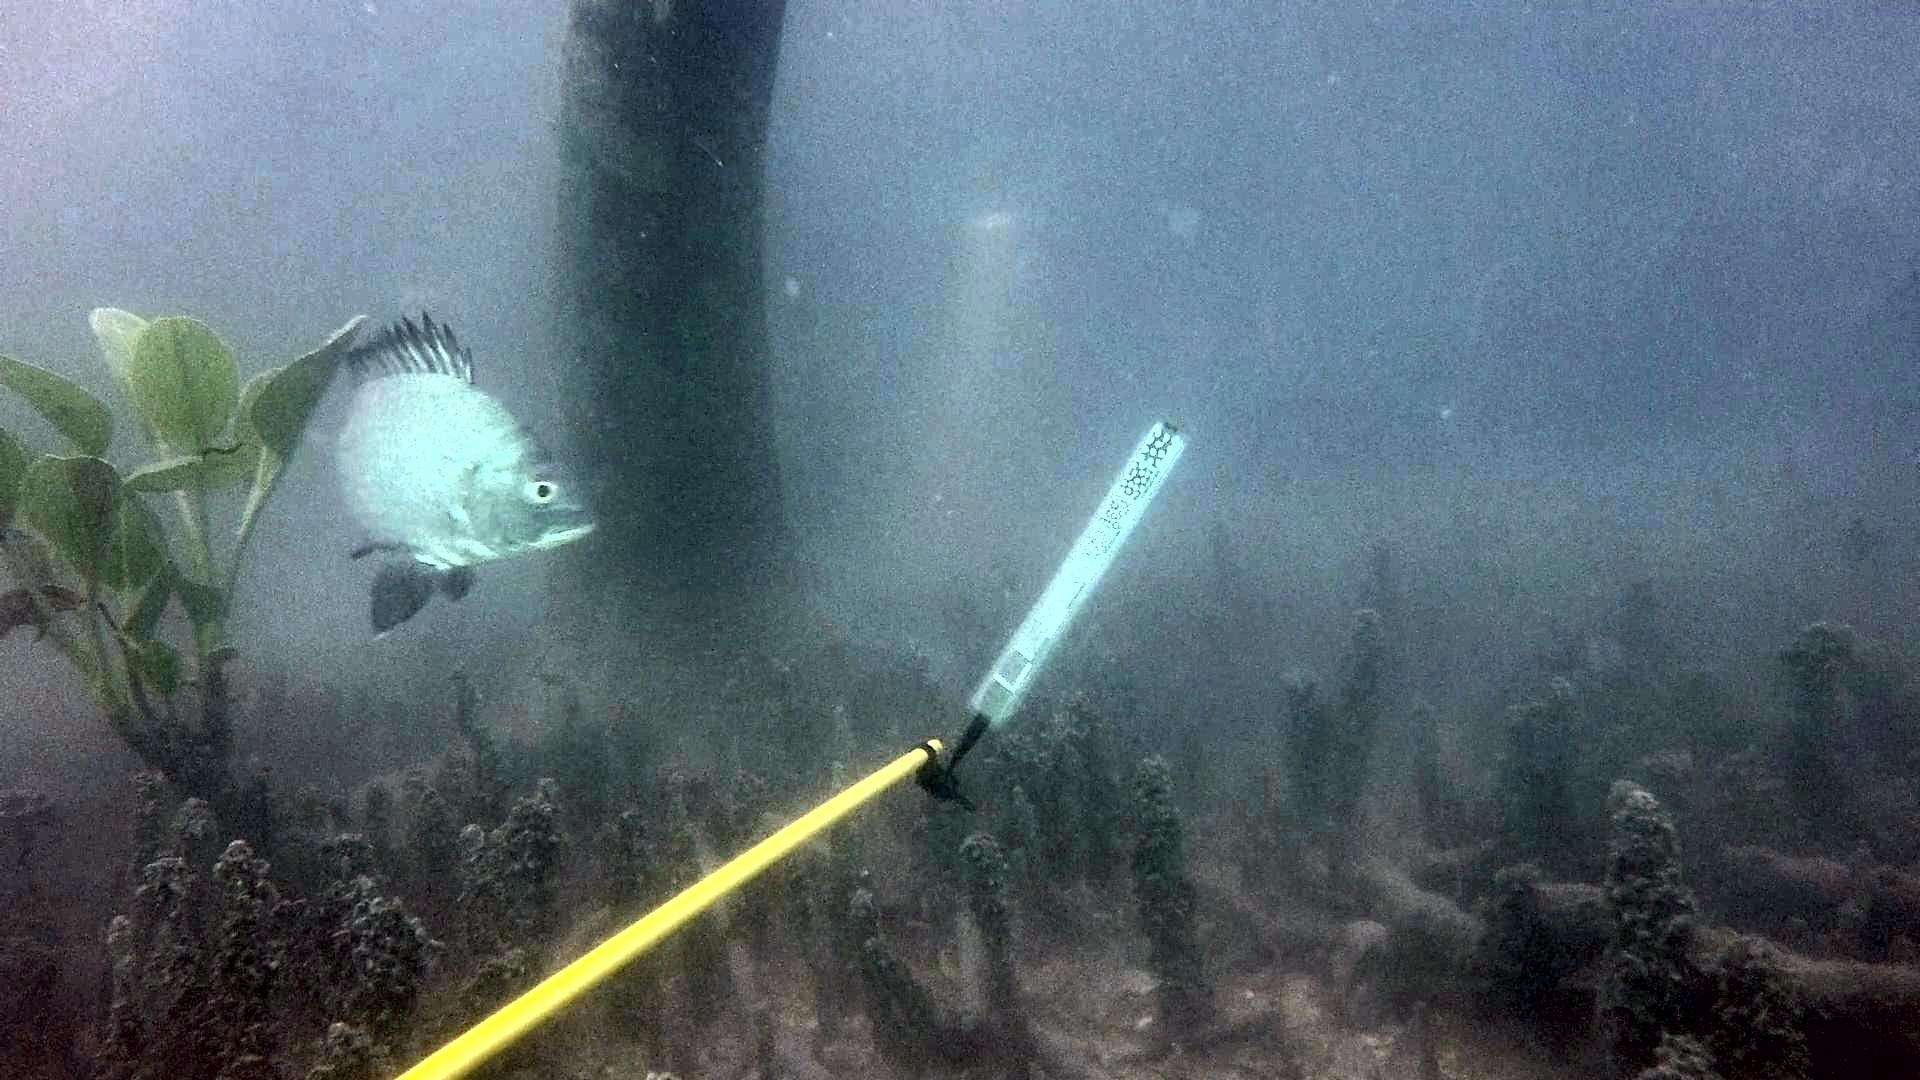acanthopagrus palmaris: (318, 301, 611, 644)
